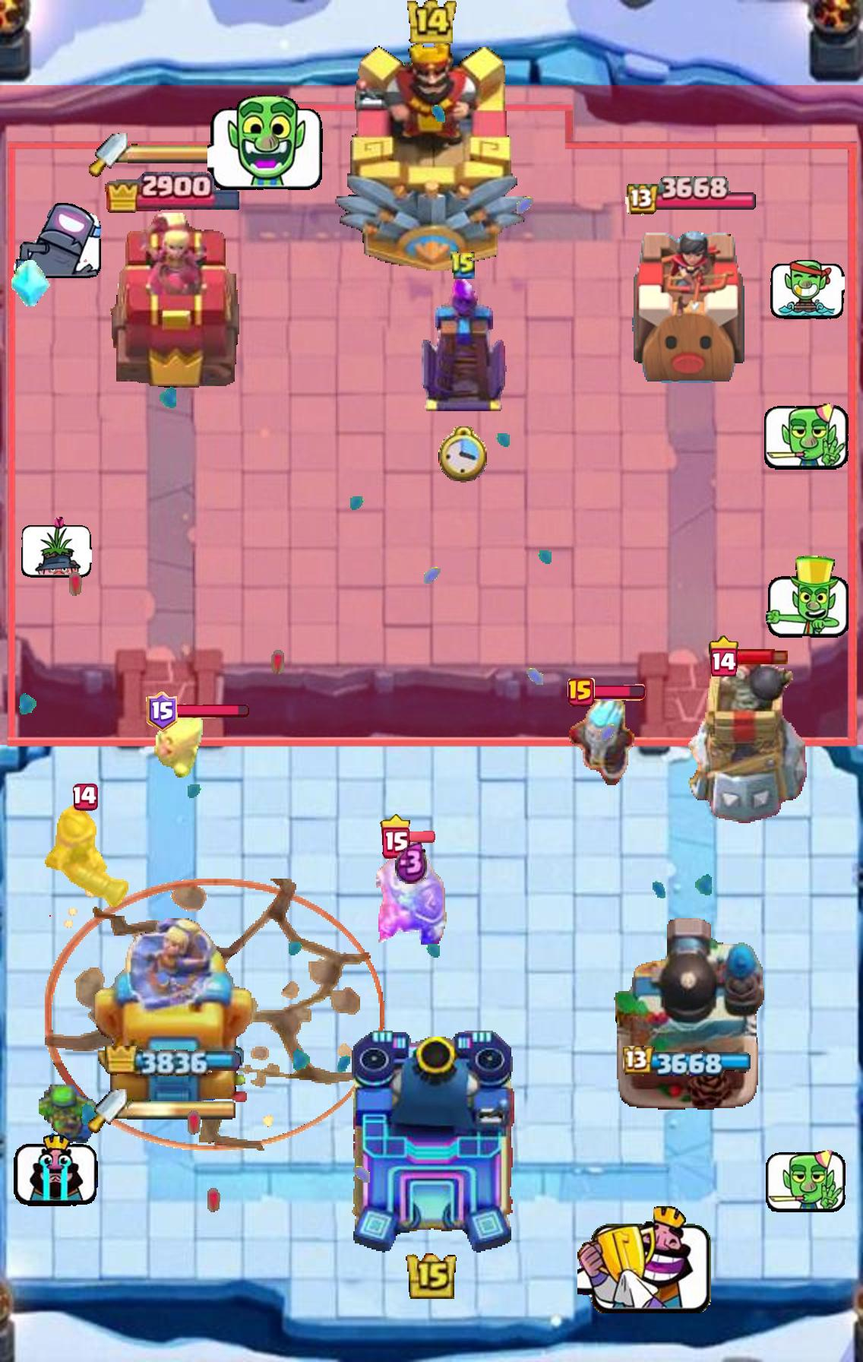elixir: (395, 840, 428, 884)
